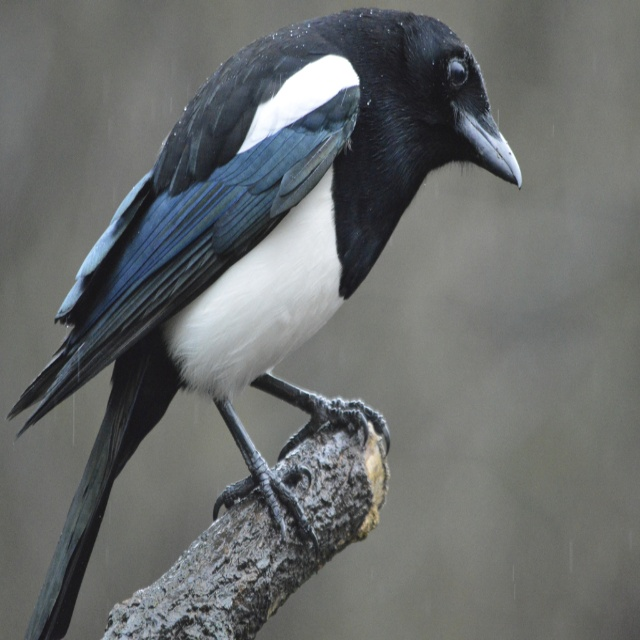Magpie: (0, 2, 522, 640)
